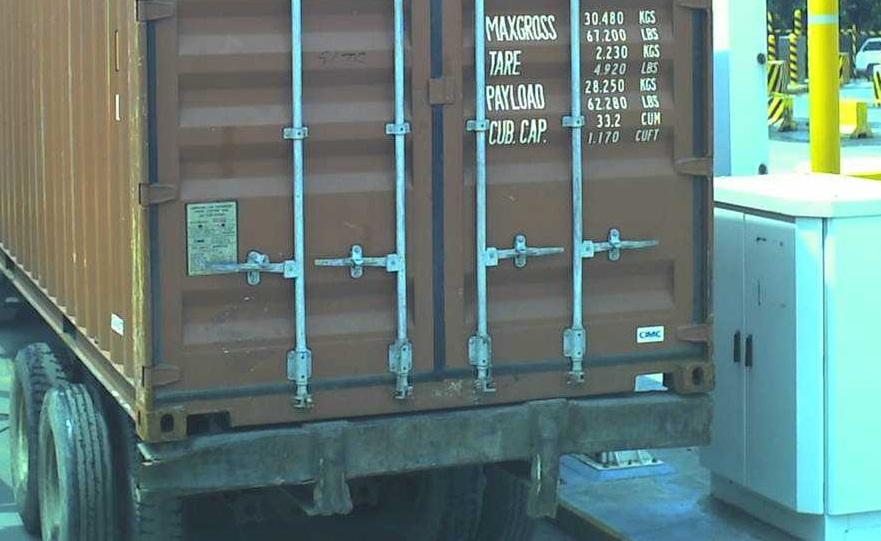container_door: (148, 1, 715, 445)
